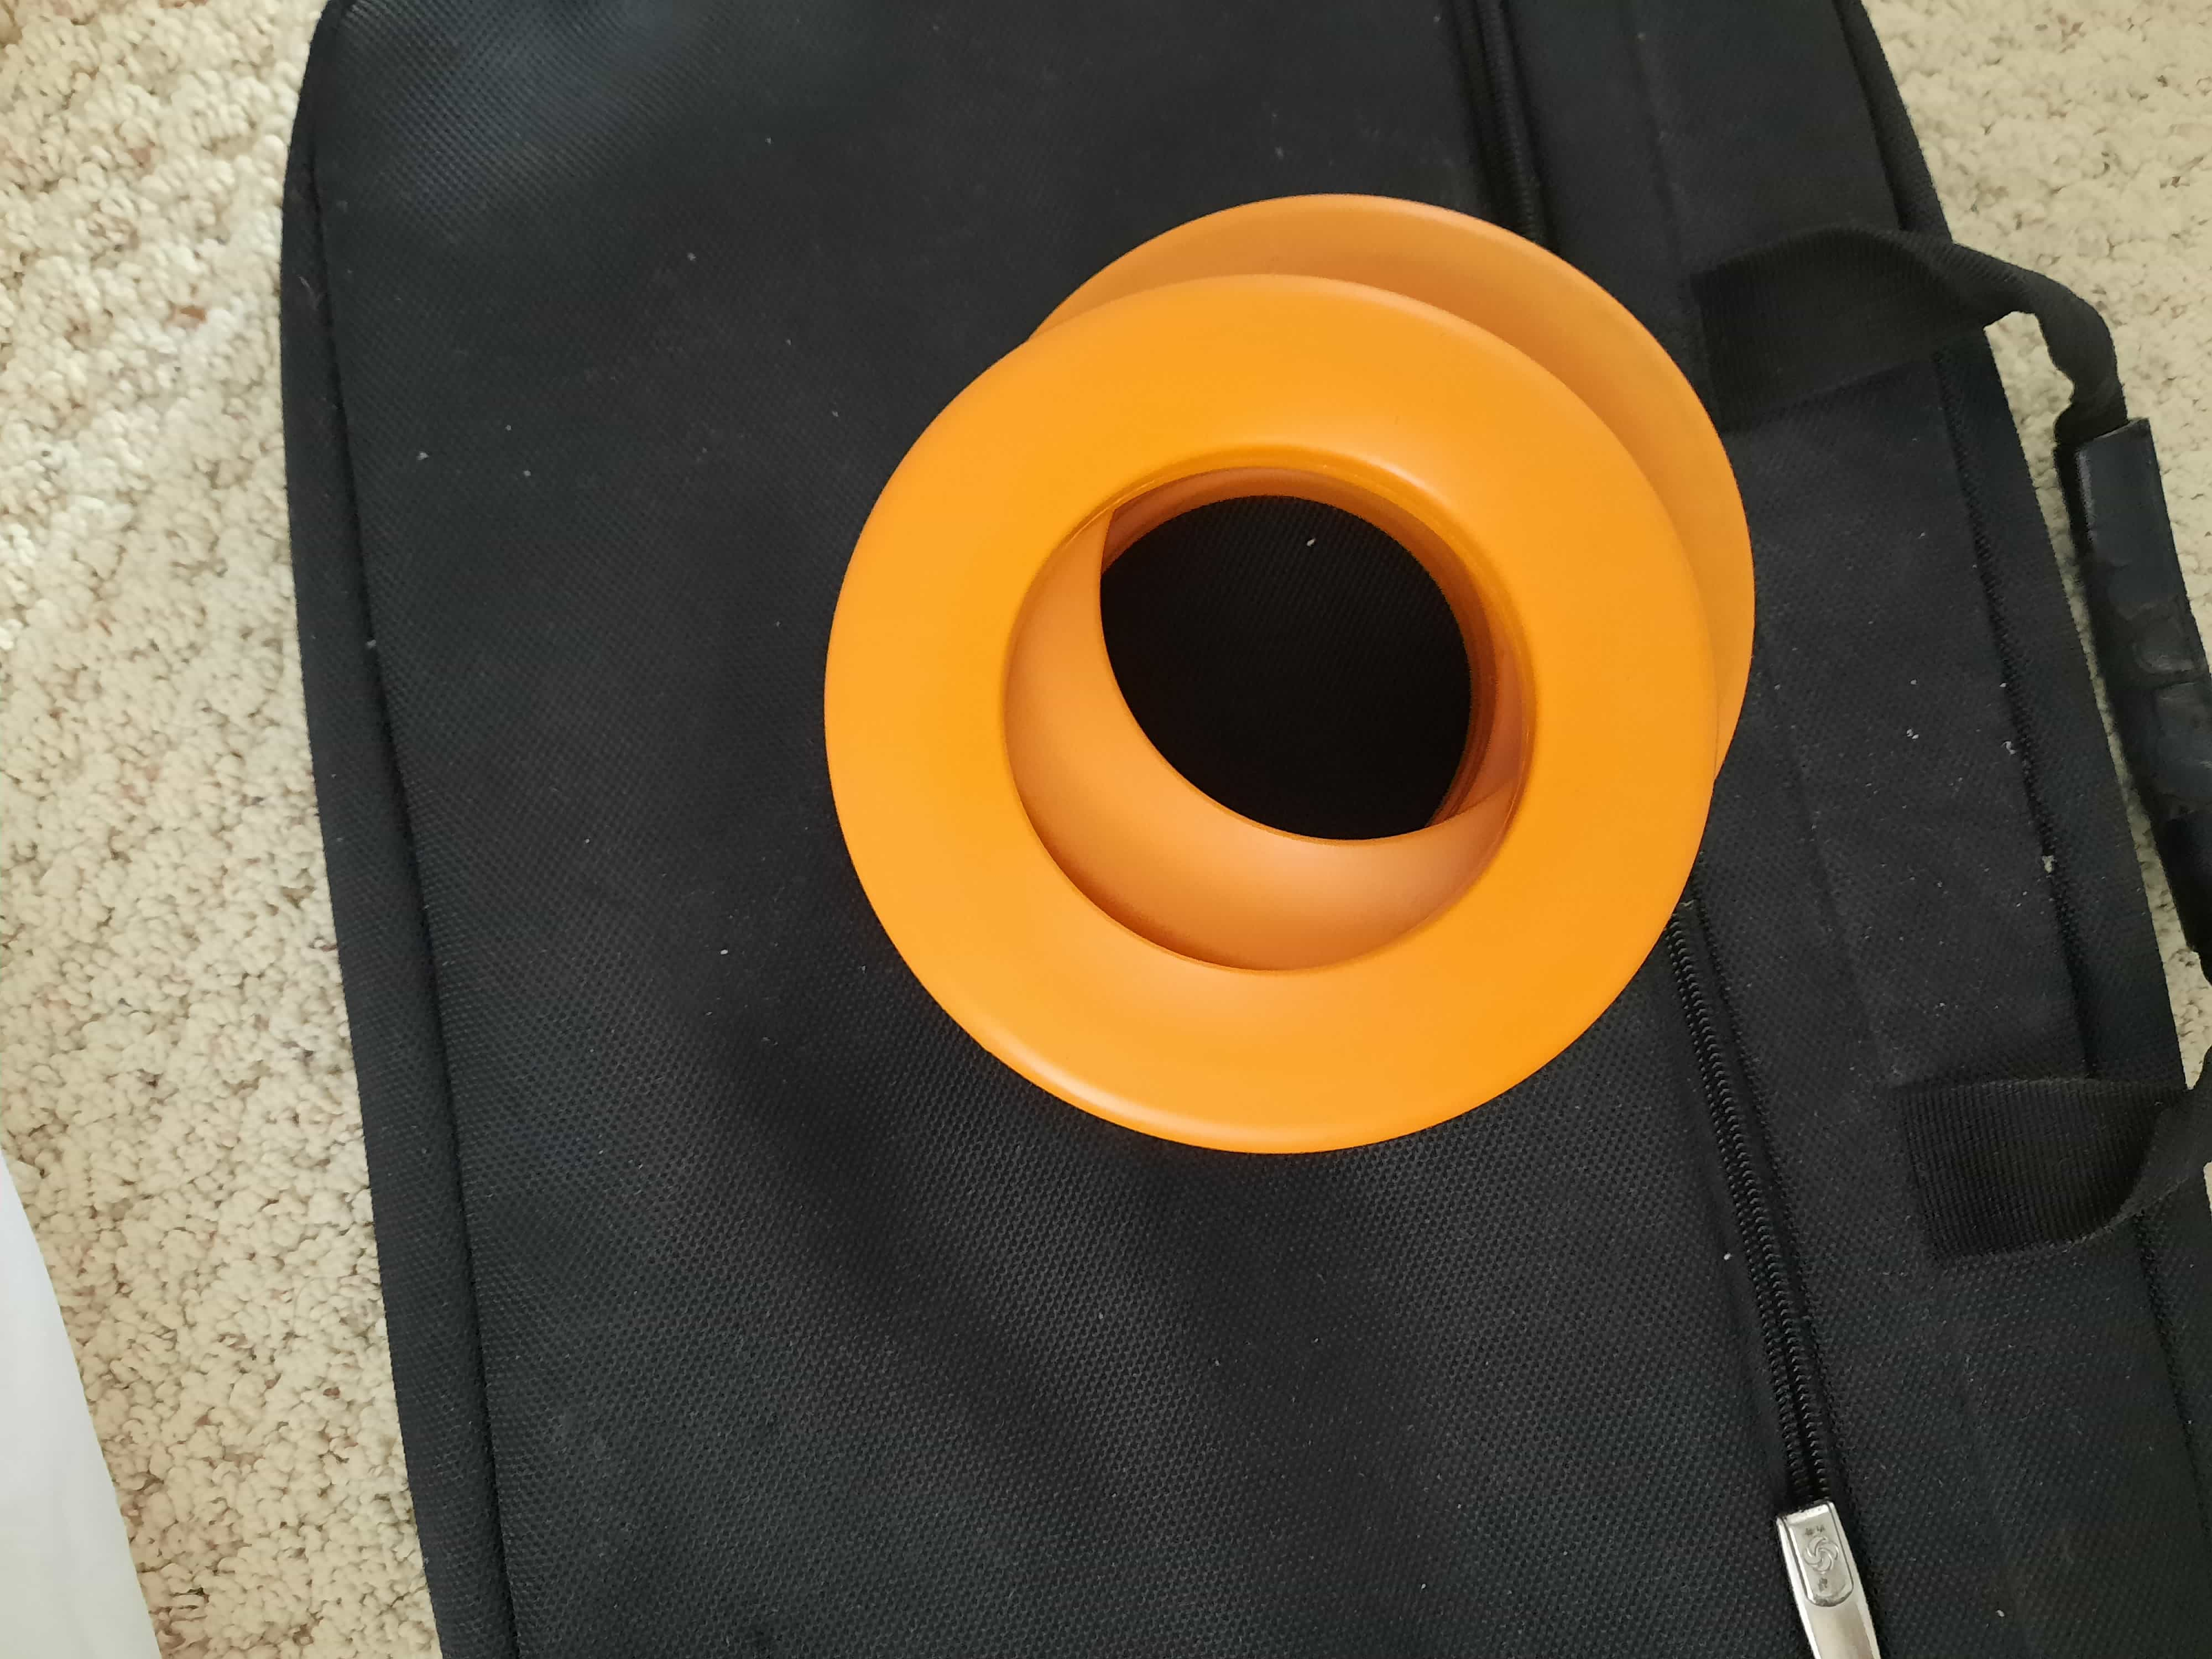FourStack: (829, 185, 1768, 1161)
